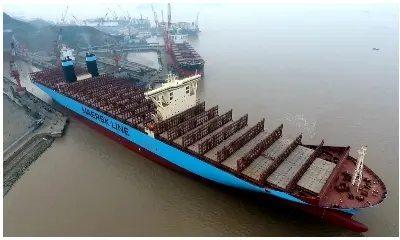Cargoship: (28, 52, 389, 222)
